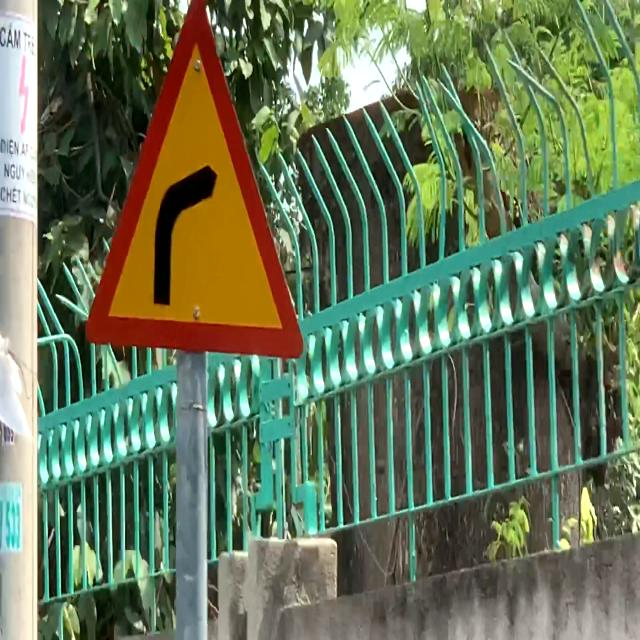W.201b: (74, 0, 308, 368)
